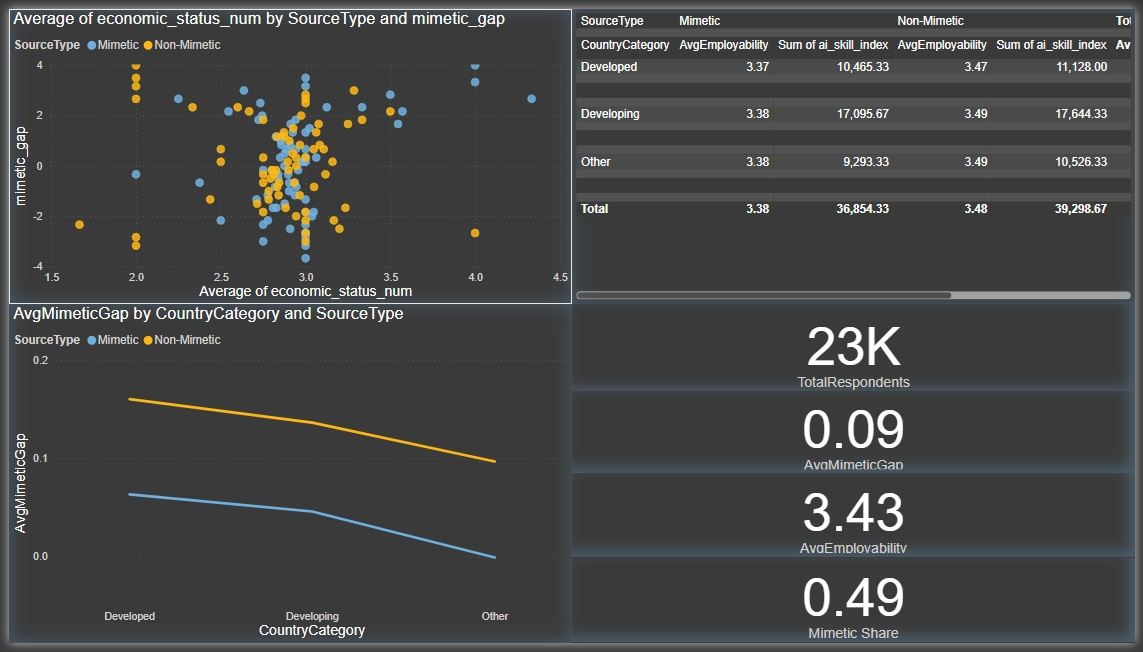

What the dashboard file says about the page in this screenshot:
{"tool":"powerbi","page":{"name":"Gap vs Socioeconomic & Country Class","canvas":[1280,720],"ordinal":2},"visuals":[{"type":"scatterChart","fields":{"X":["Avg(survey_for_powerbi.economic_status_num)1"],"Y":["survey_for_powerbi.mimetic_gap"],"Series":["survey_for_powerbi.SourceType"]},"box":[0,0,640,335],"z":0},{"type":"lineChart","fields":{"Series":["survey_for_powerbi.SourceType"],"Category":["survey_for_powerbi.CountryCategory"],"Y":["survey_for_powerbi.AvgMimeticGap"]},"box":[0,335,640,385],"z":1},{"type":"pivotTable","fields":{"Values":["survey_for_powerbi.AvgEmployability","Sum(survey_for_powerbi.ai_skill_index)"],"Rows":["survey_for_powerbi.CountryCategory"],"Columns":["survey_for_powerbi.SourceType"]},"box":[640,0,640,335],"z":2},{"type":"card","fields":{"Values":["survey_for_powerbi.TotalRespondents"]},"box":[640,335,640,102.5],"z":3},{"type":"card","fields":{"Values":["survey_for_powerbi.AvgMimeticGap"]},"box":[640,433.8,640,93.8],"z":4},{"type":"card","fields":{"Values":["survey_for_powerbi.AvgEmployability"]},"box":[640,527.5,640,96.2],"z":5},{"type":"card","fields":{"Values":["survey_for_powerbi.Mimetic Share"]},"box":[640,623.8,640,96.2],"z":6}]}

Visuals, with their boxes in screenshot pixels (x1, y1, x2, y2), scaled from the page's 1280x720 canvas onto the 1143x652 screenshot:
scatterChart - Avg(survey_for_powerbi.economic_status_num)1 x survey_for_powerbi.mimetic_gap: BBox(0, 0, 572, 303)
lineChart - survey_for_powerbi.SourceType x survey_for_powerbi.CountryCategory: BBox(0, 303, 572, 651)
pivotTable - survey_for_powerbi.AvgEmployability x Sum(survey_for_powerbi.ai_skill_index): BBox(572, 0, 1142, 303)
card - survey_for_powerbi.TotalRespondents: BBox(572, 303, 1142, 396)
card - survey_for_powerbi.AvgMimeticGap: BBox(572, 393, 1142, 478)
card - survey_for_powerbi.AvgEmployability: BBox(572, 478, 1142, 565)
card - survey_for_powerbi.Mimetic Share: BBox(572, 565, 1142, 651)
